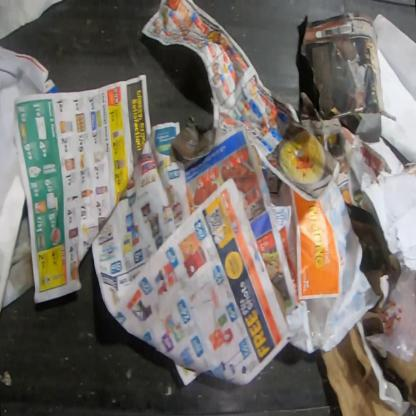cardboard: (363, 265, 415, 409), (323, 322, 390, 415)
soft_plastic: (305, 298, 336, 352), (347, 146, 378, 193)
